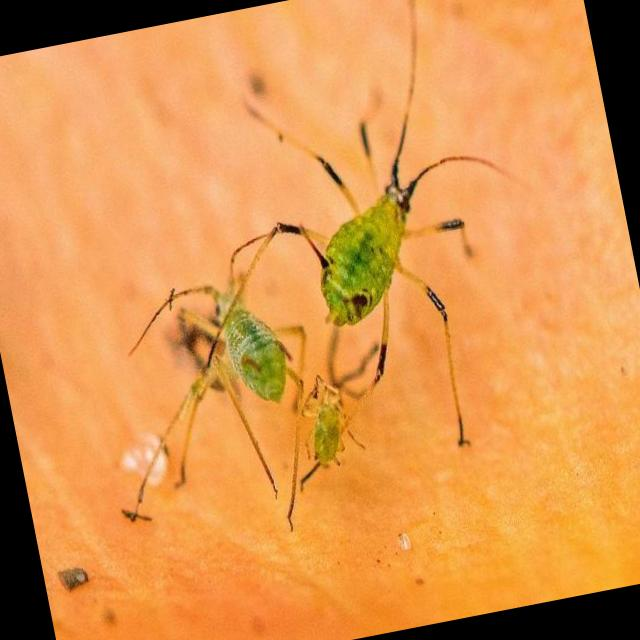aphid: (153, 131, 518, 504), (276, 96, 483, 352), (176, 241, 298, 424), (282, 368, 374, 471)
